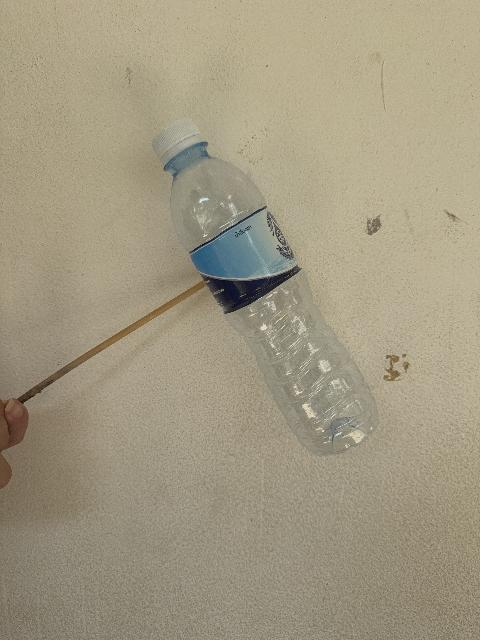bottle: (153, 119, 377, 455)
